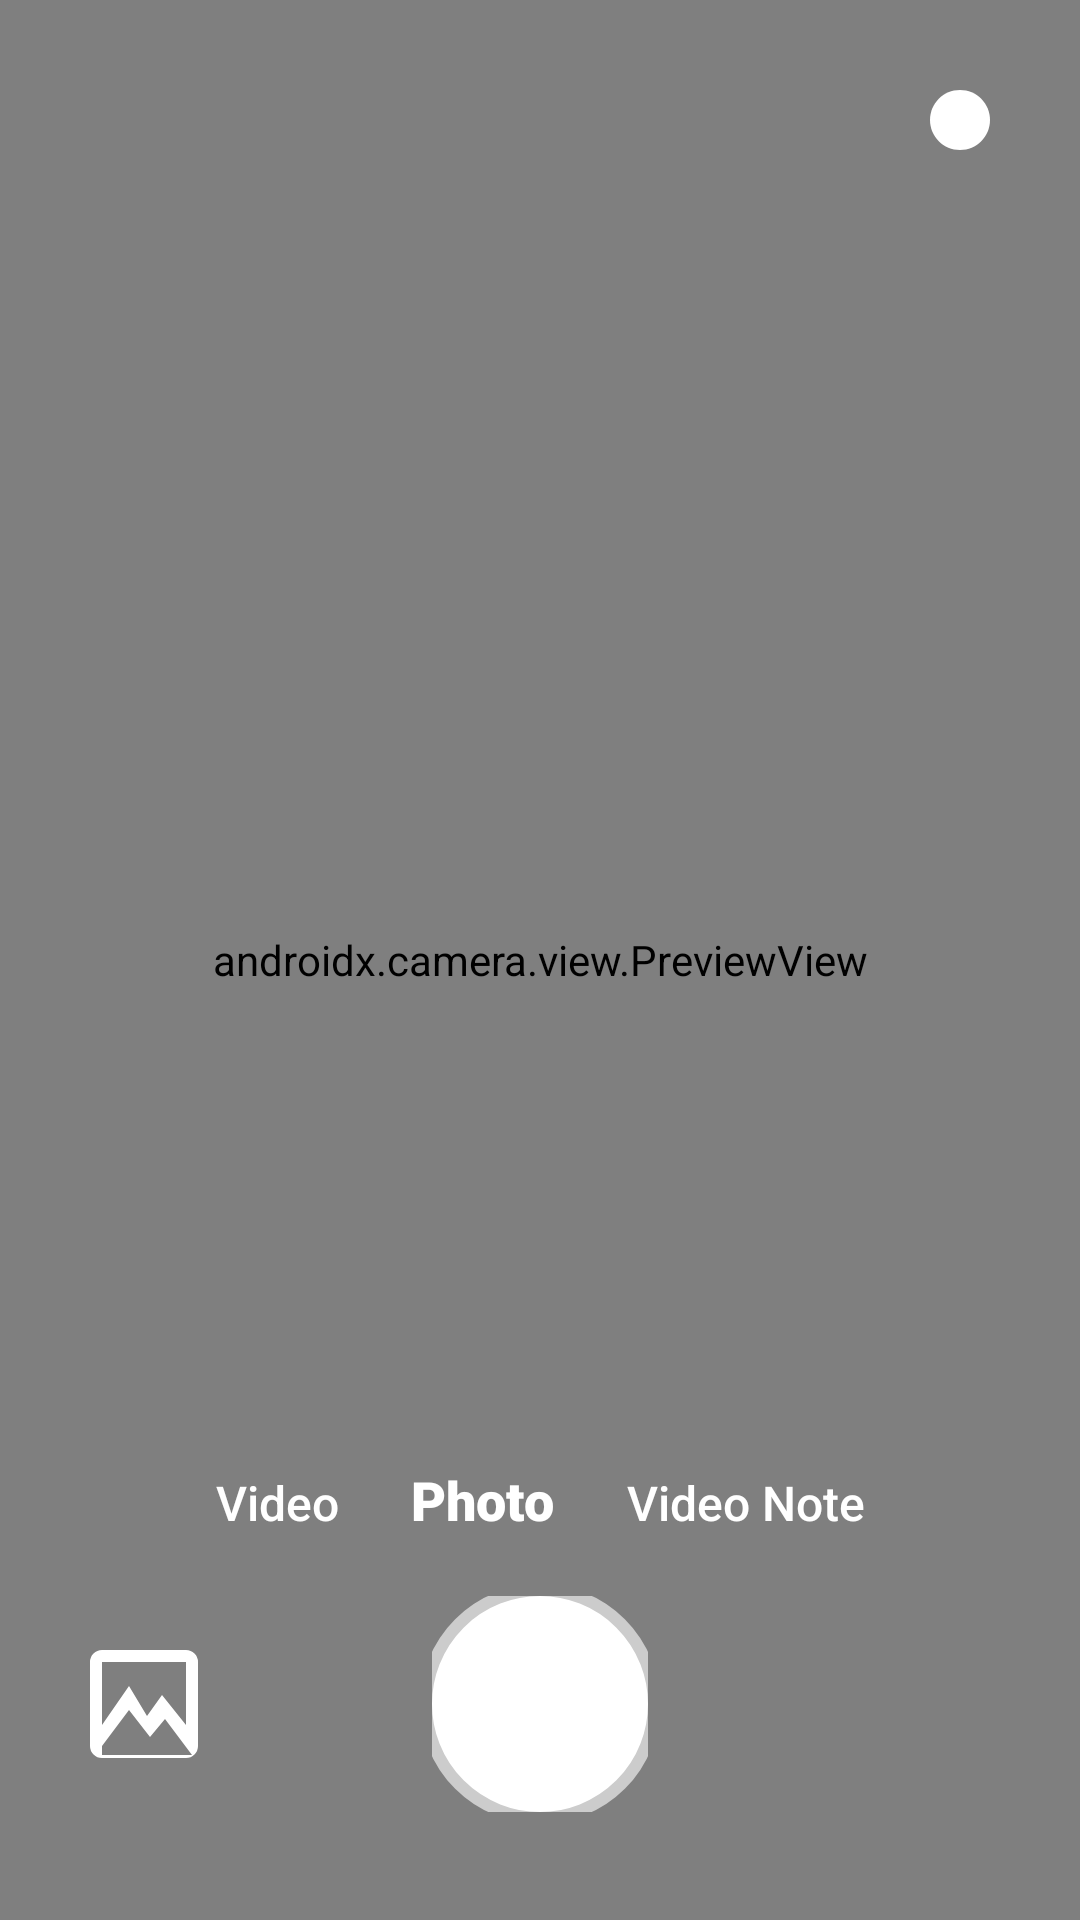

Point at icon controls on the screen. Image size 1080px x 1920px, points as point (x, y).
Open media gallery: point (144, 1704)
